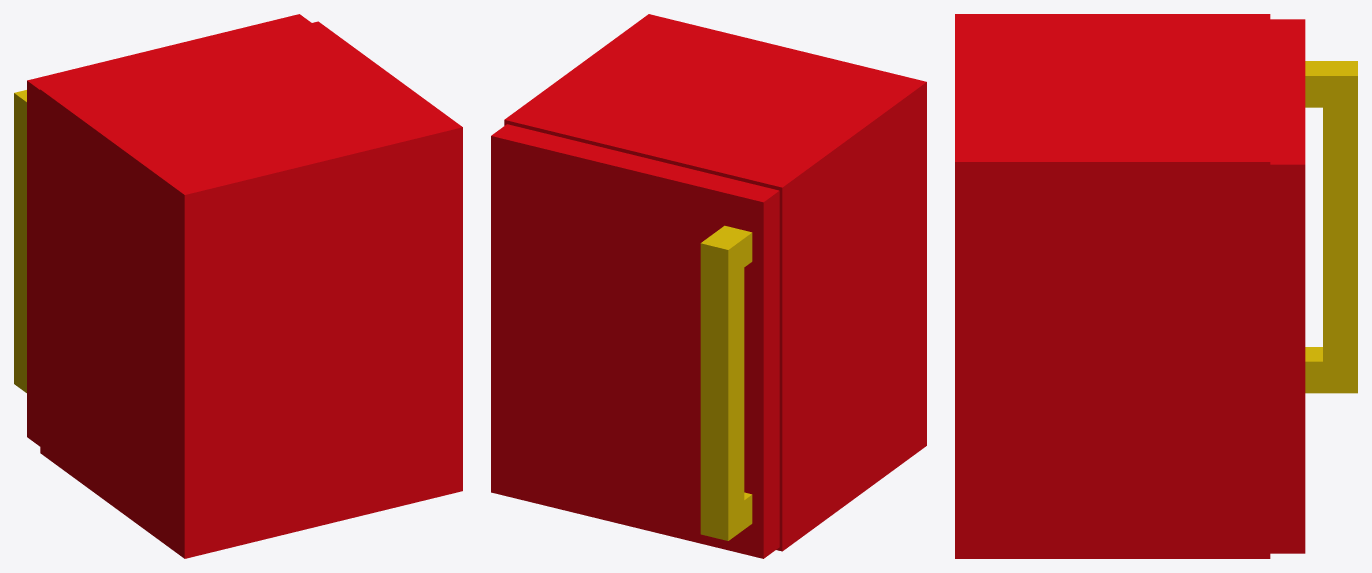
The model's file is Fridge.fbx.
The picture shows the model from 3 angles, left to right: view 1: azimuth 30°, elevation 25°; view 2: azimuth 150°, elevation 25°; view 3: azimuth 270°, elevation 25°; orthographic projection. The views are drawn at different scales.
Visible parts, largest first — view 1: Fridge; view 2: Fridge; view 3: Fridge.
Boxes of the visible parts, x1,y1,x2,y2 form: Fridge: (14,14,462,558); Fridge: (491,14,926,558); Fridge: (955,14,1357,558).
Bounding box in the file's own units: 200 × 230 × 250.
